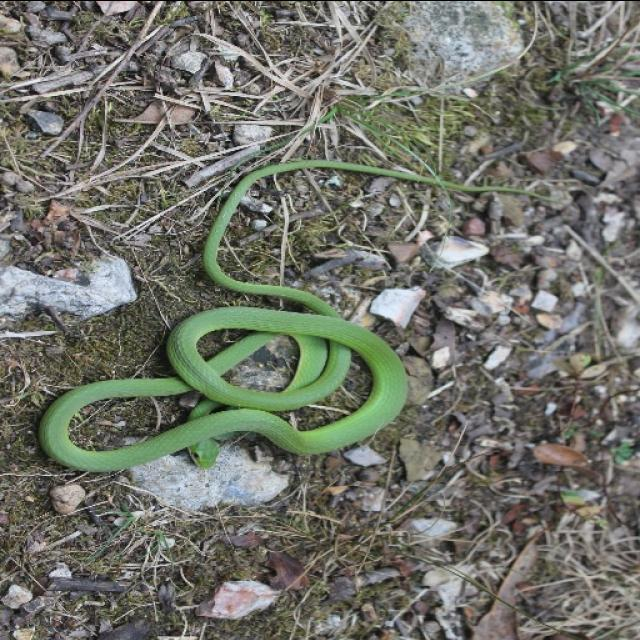snake: (41, 115, 481, 483)
